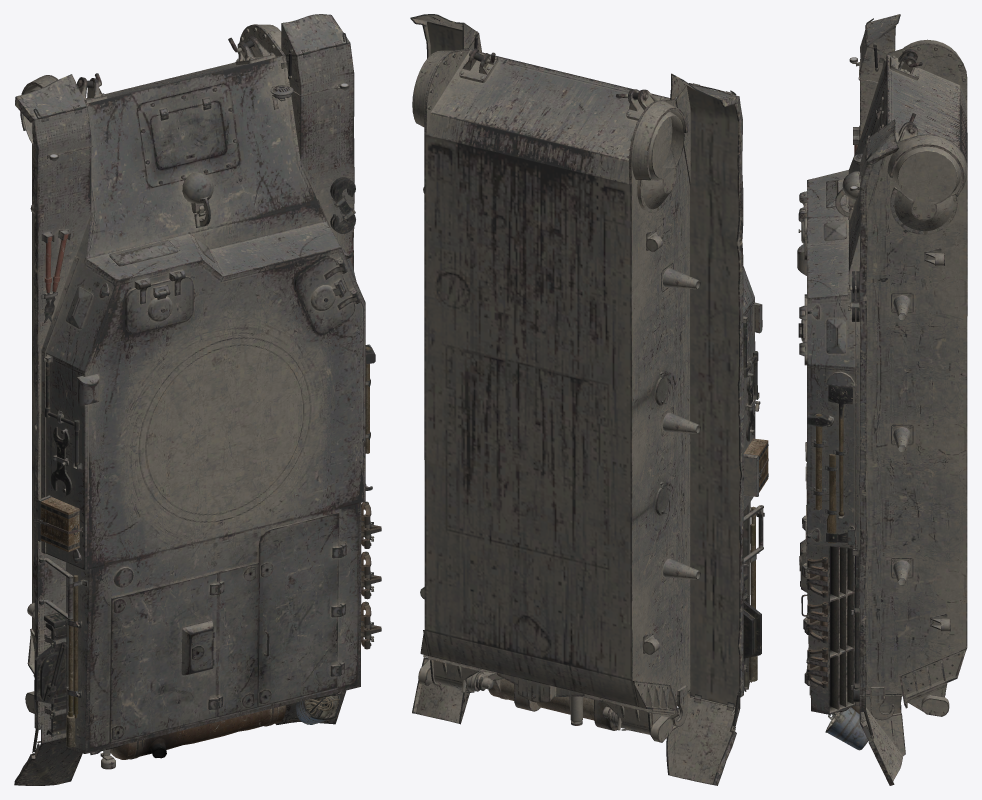
The model's file is Hull.glb.
3 views of the same model, side by side, from view 1: azimuth 30°, elevation 25°; view 2: azimuth 150°, elevation 25°; view 3: azimuth 270°, elevation 25° (orthographic). The views are drawn at different scales.
Visible parts, largest first — view 1: set_0_group_0; view 2: set_0_group_0; view 3: set_0_group_0.
Boxes of the visible parts, bbox=[...] form: set_0_group_0: bbox=[14, 14, 381, 785]; set_0_group_0: bbox=[410, 14, 768, 785]; set_0_group_0: bbox=[797, 14, 967, 785].
Bounding box in the file's own units: 2.48 × 5.14 × 1.23.
Materials: 1 (1 with a texture image).
